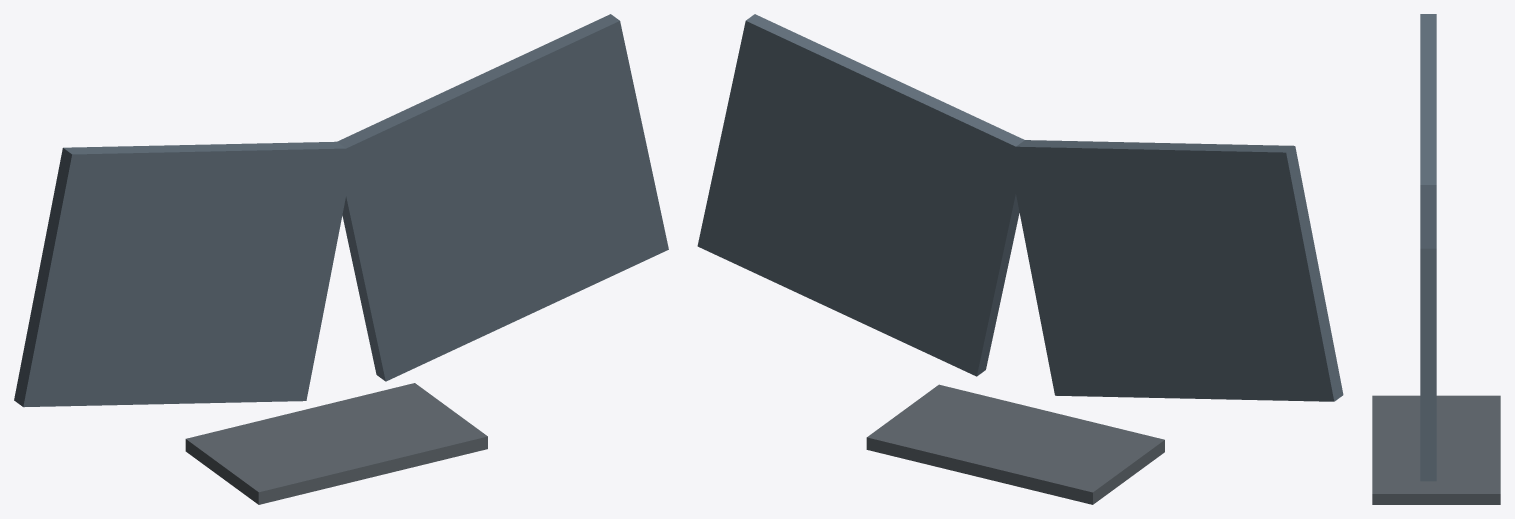
The model's file is presentation___tech_asset_catalog_84.glb.
3 views of the same model, side by side, from view 1: azimuth 30°, elevation 25°; view 2: azimuth 150°, elevation 25°; view 3: azimuth 270°, elevation 25° (orthographic). The views are drawn at different scales.
Parts seen in each view (by area): view 1: Cube; view 2: Cube; view 3: Cube.
Part boxes in pixels (left/top/right/bottom): Cube: left=14, top=14, right=668, bottom=504; Cube: left=697, top=14, right=1343, bottom=504; Cube: left=1372, top=14, right=1500, bottom=504.
Bounding box in the file's own units: 0.8231 × 0.45 × 0.1615.
